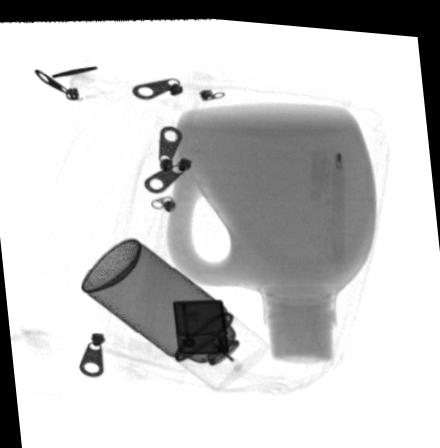Lighter: (173, 295, 229, 350)
Sprayer: (81, 236, 273, 388)
